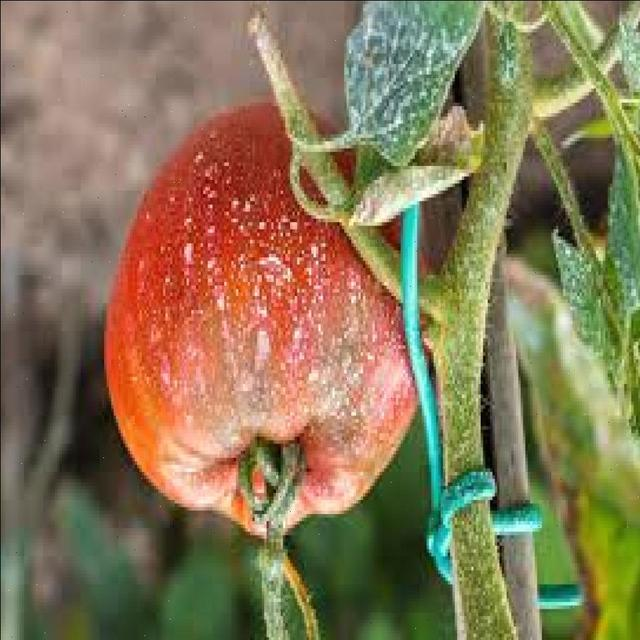Spotted wilt Virus Fruit: (67, 68, 284, 363)
